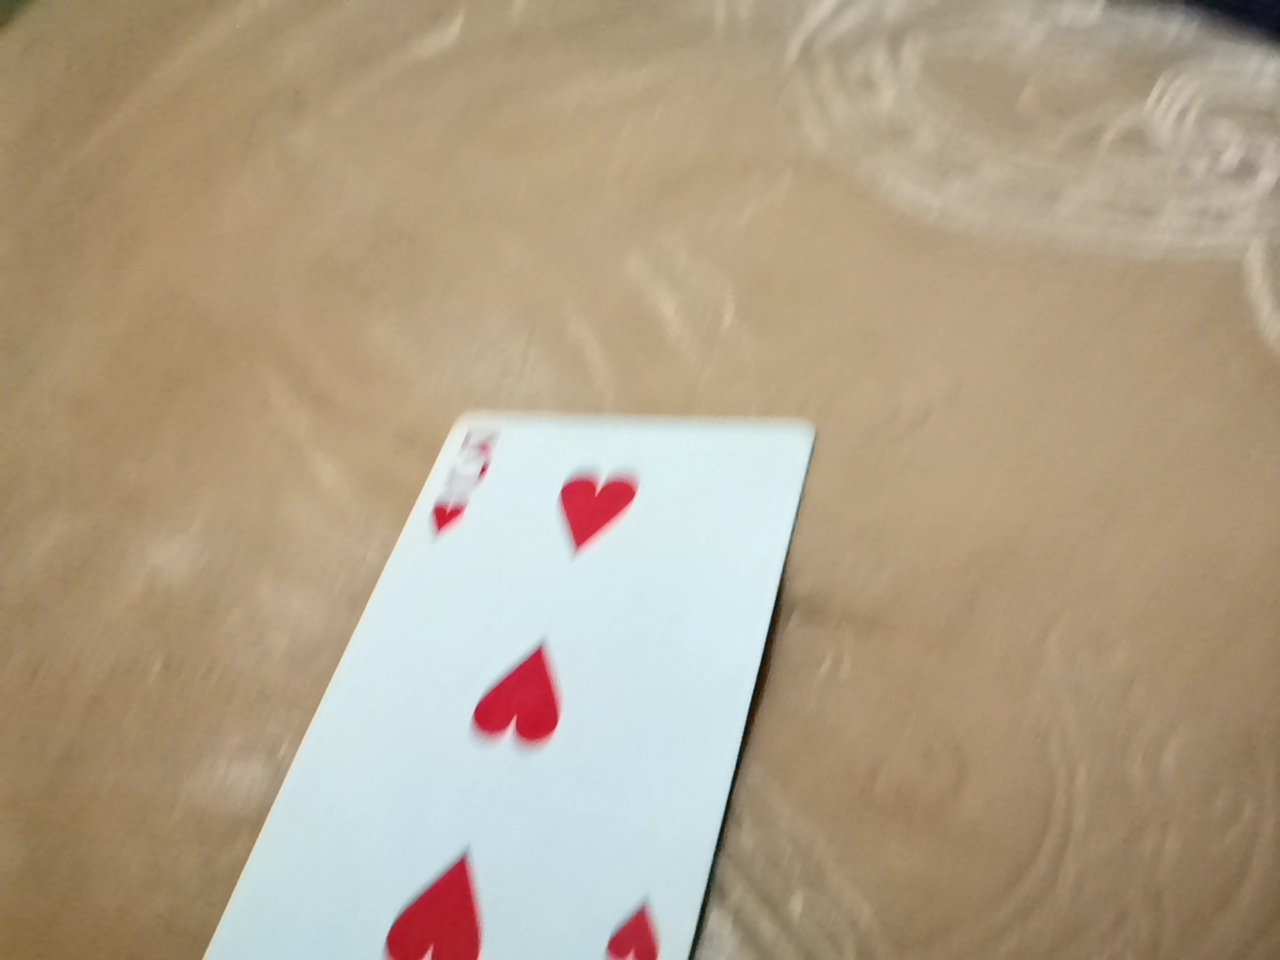hx 3: (107, 500, 793, 952)
